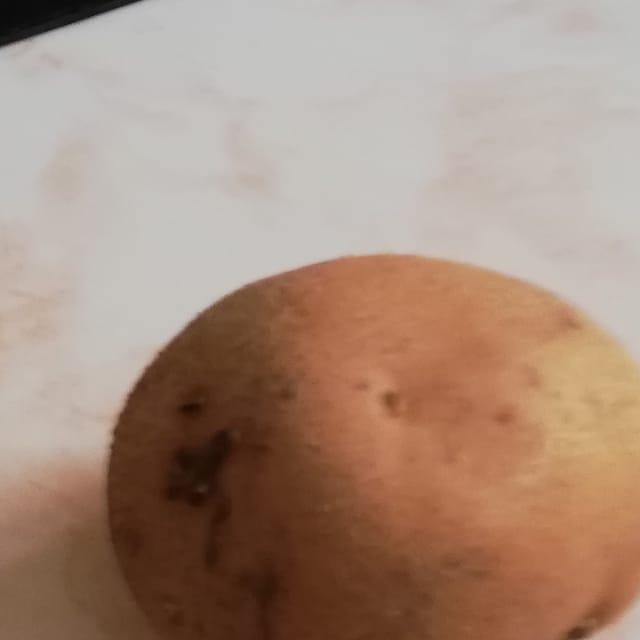potato: (78, 235, 640, 640)
